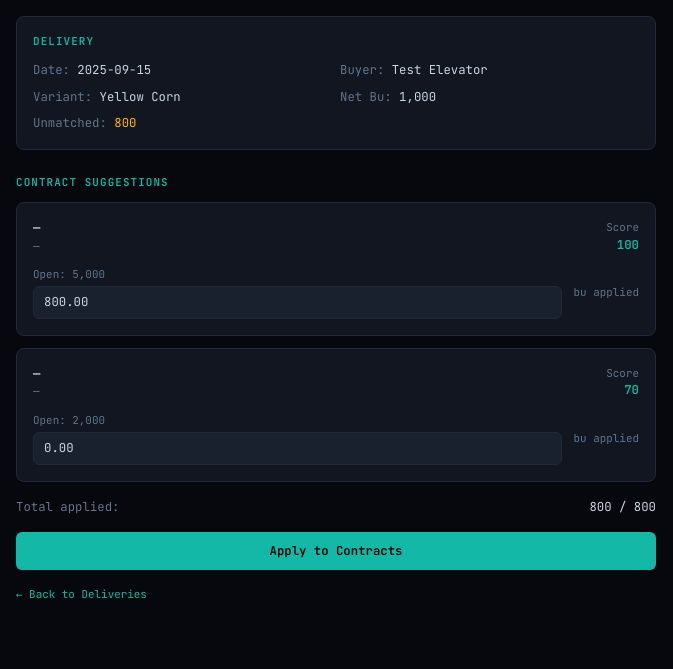
Test case: ApplyDeliveryClient › shows error when sum of inputs exceeds delivery.unappliedBushels
Force over-application (defaults are now valid), then submit
Replace the text in the number field named "Applied bushels for contract con-1" with "600" at (297, 303), box [33,286,562,319]
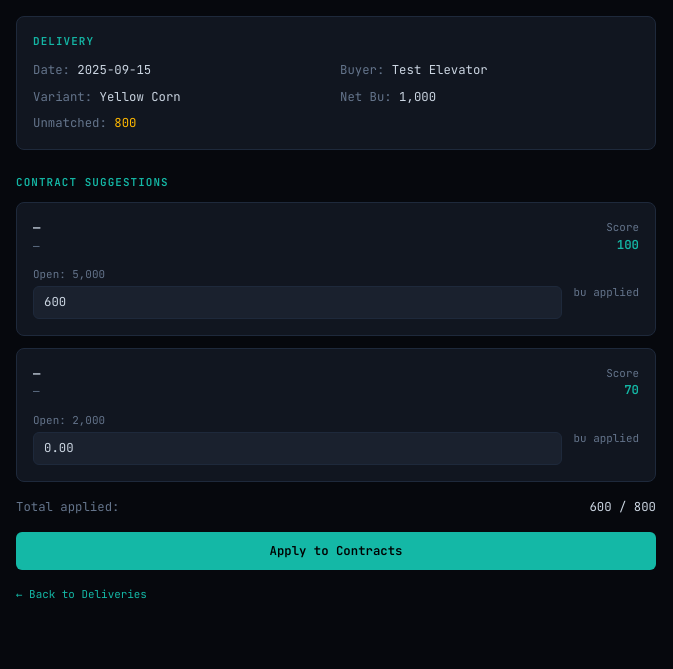
Replace the text in the number field named "Applied bushels for contract con-2" with "300" at (297, 448), box [33,432,562,465]
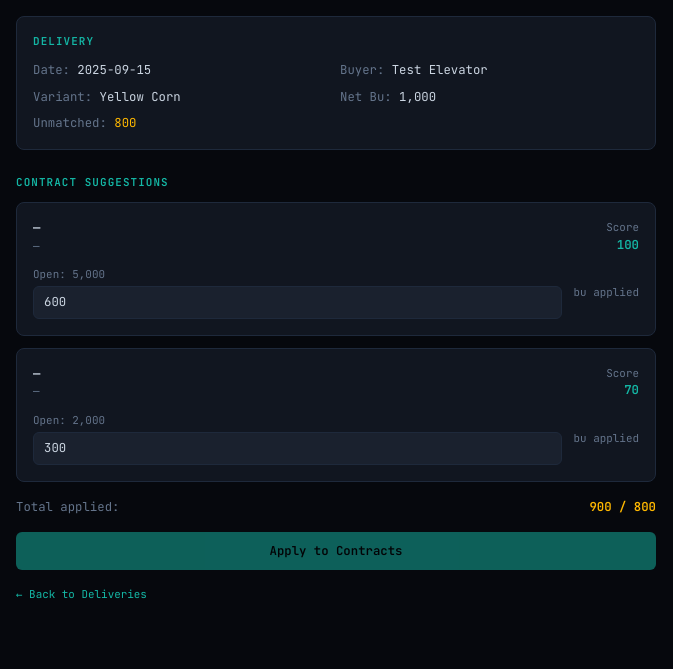
Submit the form, box [16,202,656,570]
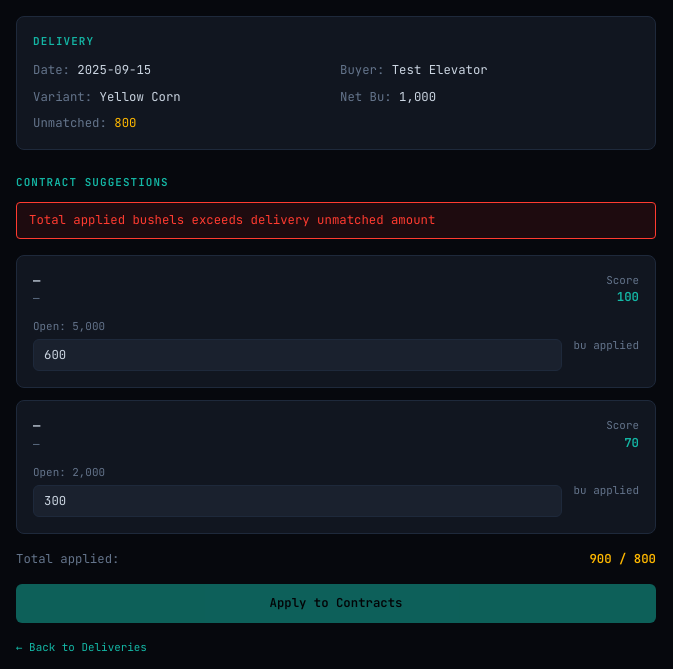
Now the message shows "exceeds", box [29,211,435,228]
